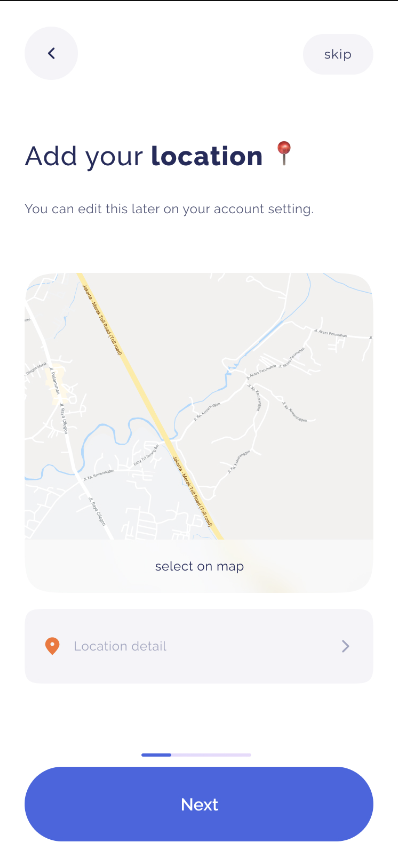IconButton: (22, 25, 80, 80)
